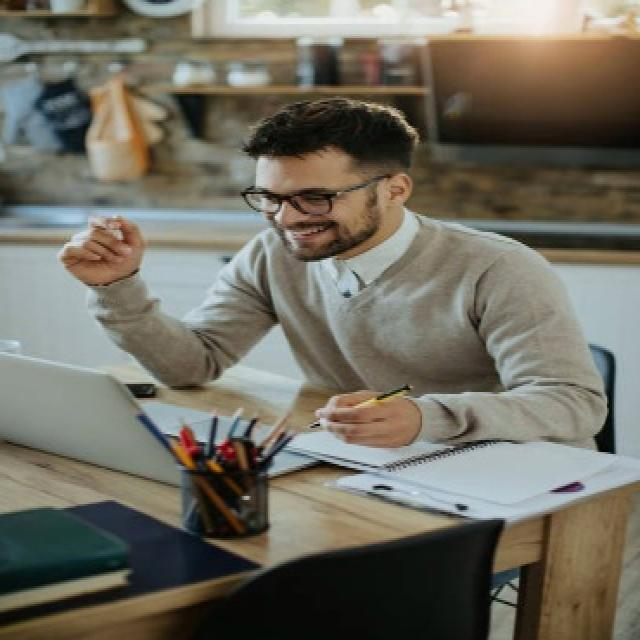adult: (59, 102, 605, 448)
